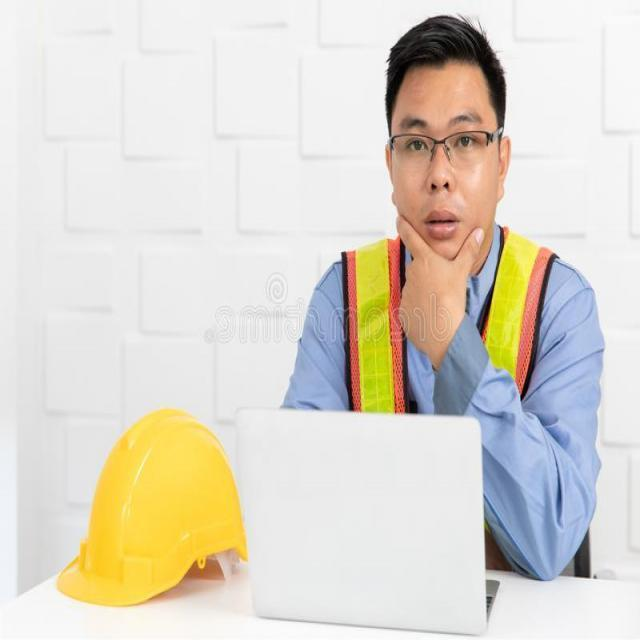NoHelmet: (383, 15, 509, 264)
